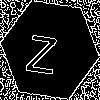Z: (25, 25, 60, 75)
